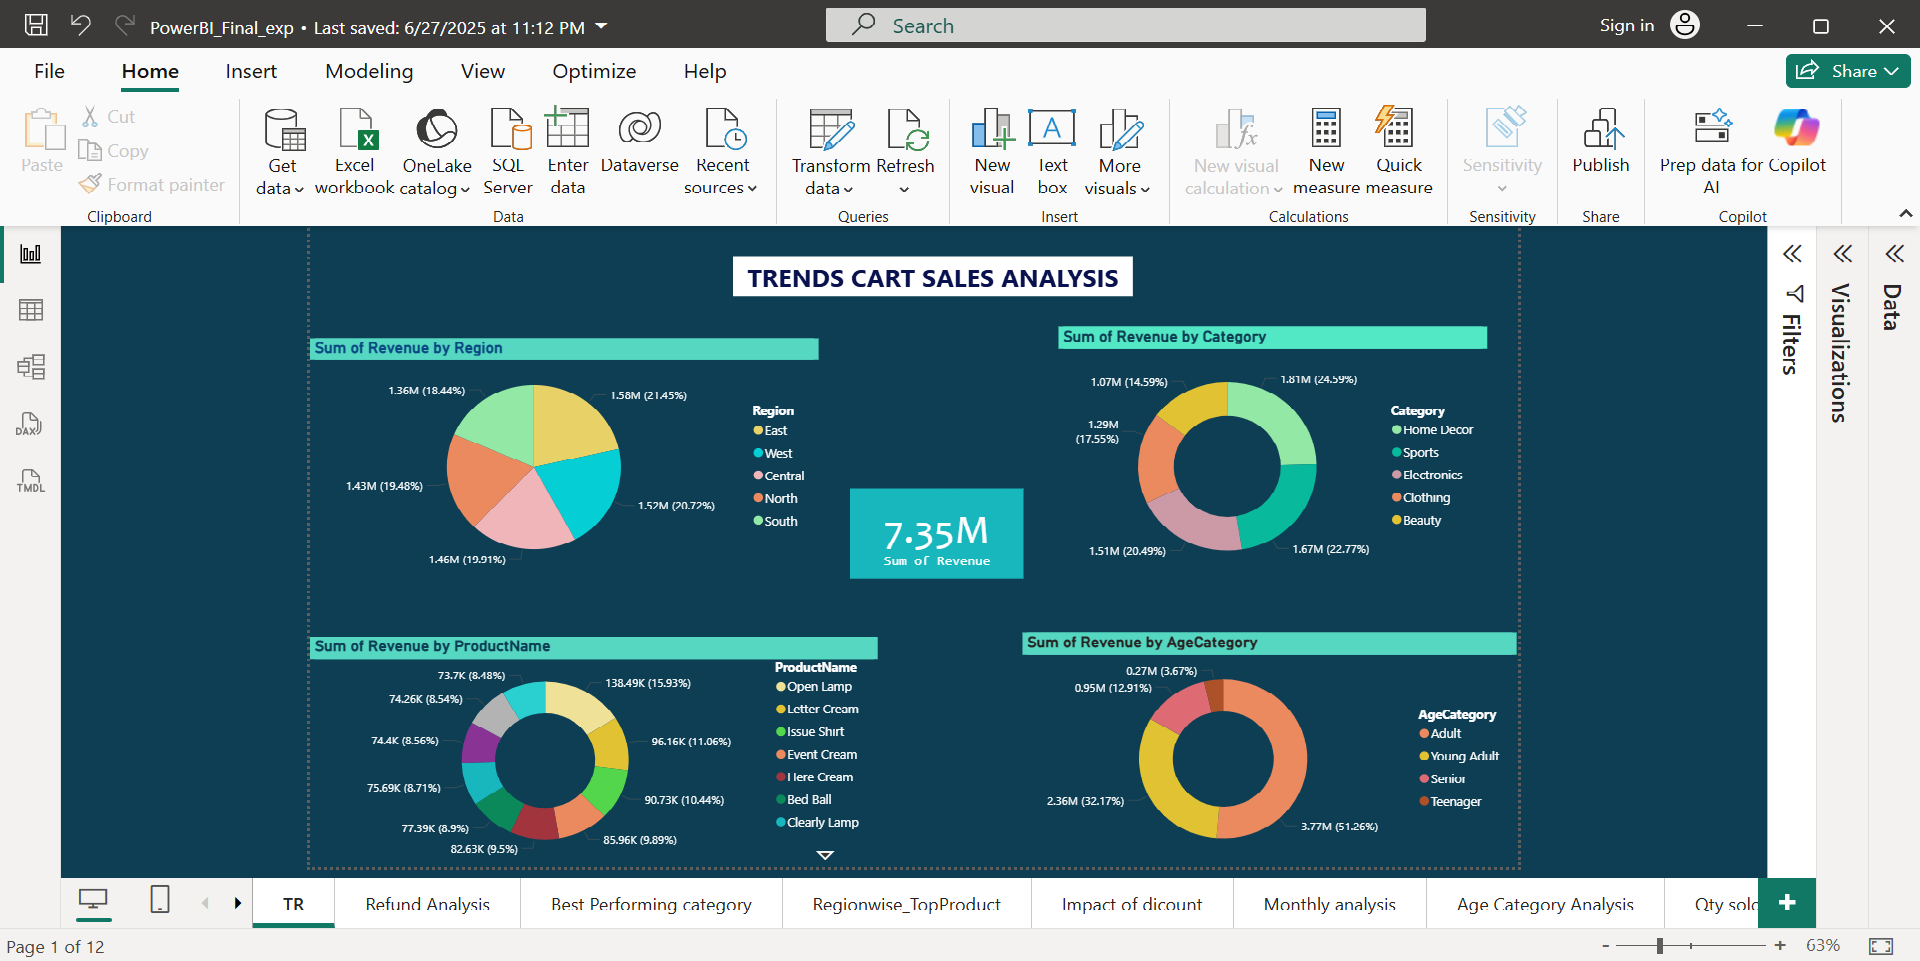

The dashboard page shown, as its layout file describes it:
{"tool":"powerbi","page":{"name":"TR","canvas":[1280,720],"ordinal":0},"visuals":[{"type":"pieChart","fields":{"Category":["TSCP.Region"],"Y":["Sum(TSCP.Revenue)"]},"box":[0,126.1,539.1,269.6],"z":0},{"type":"donutChart","fields":{"Category":["TSCP.Category"],"Y":["Sum(TSCP.Revenue)"]},"box":[793.5,113,454.3,293.5],"z":1000},{"type":"donutChart","fields":{"Category":["TSCP.ProductName"],"Y":["Sum(TSCP.Revenue)"]},"box":[0,462,602,258],"z":2000},{"type":"donutChart","fields":{"Category":["TSCP.AgeCategory"],"Y":["Sum(TSCP.Revenue)"]},"box":[756,456,524,264],"z":3000},{"type":"card","fields":{"Values":["Sum(TCSales.Revenue)"]},"box":[572,294,184,102],"z":4000},{"type":"textbox","box":[447.8,32.6,423.9,45.7],"z":5000}]}

Visuals, with their boxes on the page's 1280x720 design canvas (x1, y1, x2, y2). These are canvas units, not pixel positions in the 1920x961 screenshot, which may show the page scaled, cropped or inside an application window:
pieChart - TSCP.Region x Sum(TSCP.Revenue): Rect(0, 126, 539, 396)
donutChart - TSCP.Category x Sum(TSCP.Revenue): Rect(794, 113, 1248, 406)
donutChart - TSCP.ProductName x Sum(TSCP.Revenue): Rect(0, 462, 602, 720)
donutChart - TSCP.AgeCategory x Sum(TSCP.Revenue): Rect(756, 456, 1280, 720)
card - Sum(TCSales.Revenue): Rect(572, 294, 756, 396)
textbox: Rect(448, 33, 872, 78)
